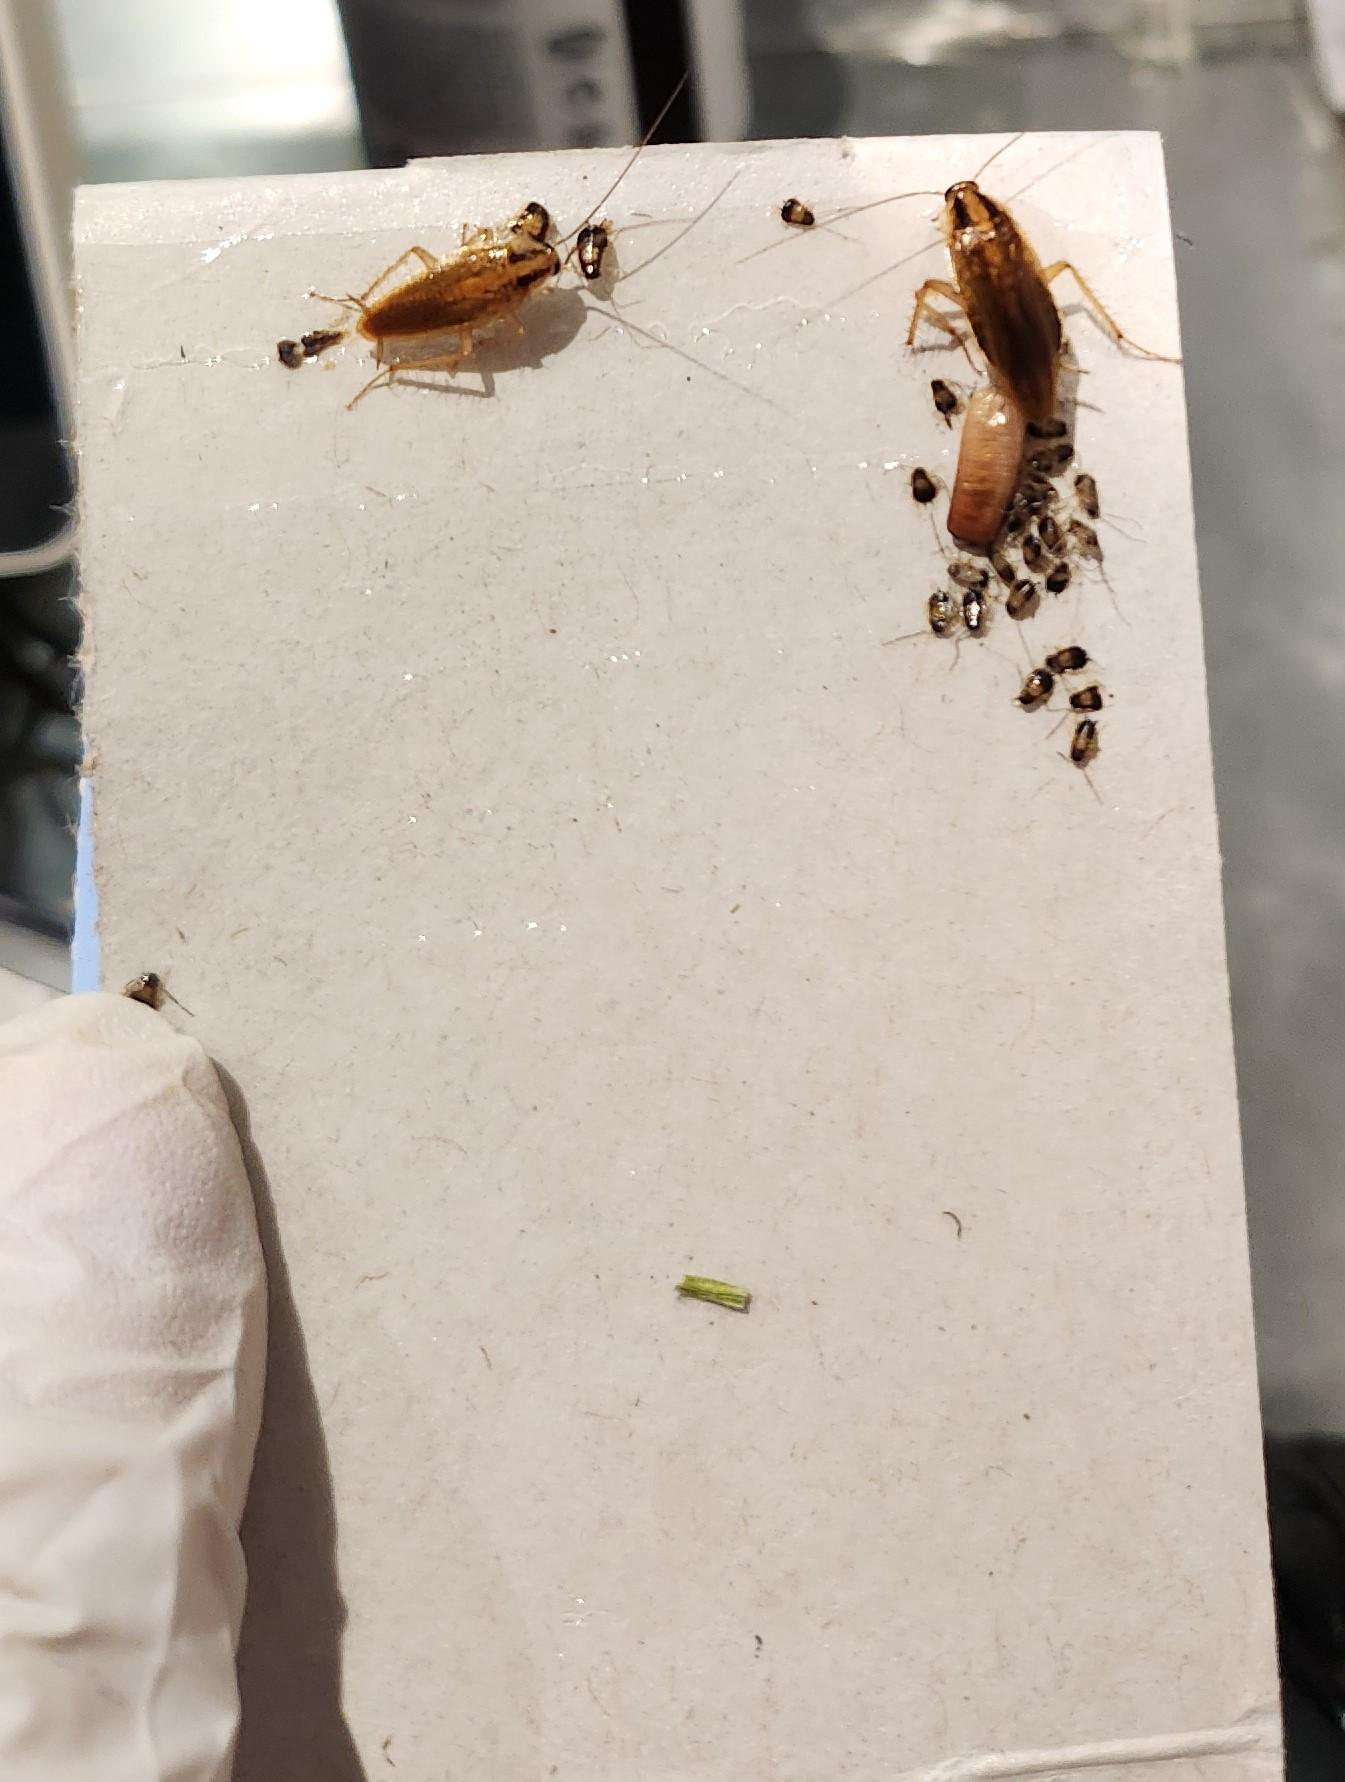cockroach: (220, 174, 746, 428), (819, 147, 1153, 459), (856, 365, 1055, 594)
